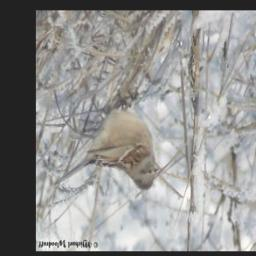Sparrow: (53, 88, 160, 193)
